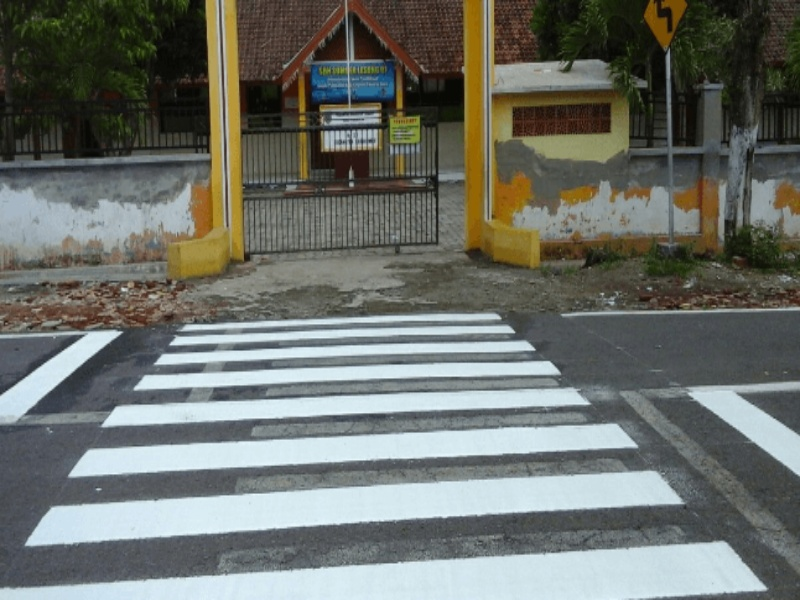zebra cross: (24, 310, 766, 592)
